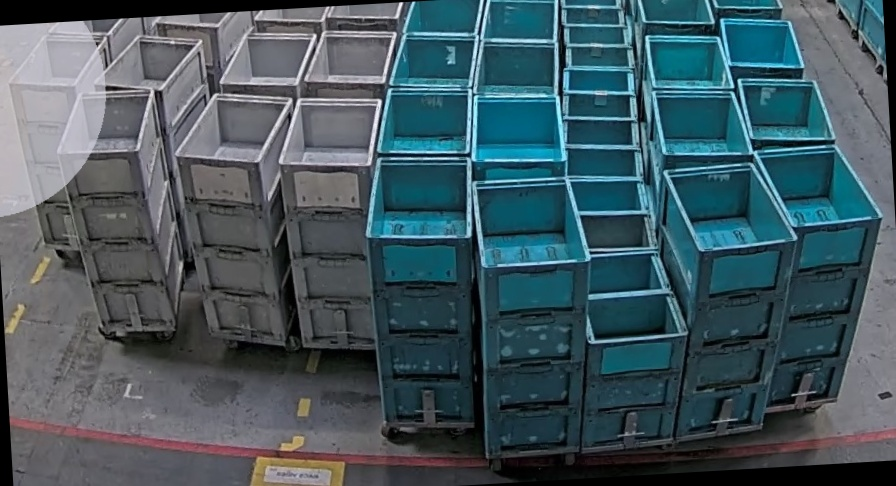4G: (170, 88, 308, 350), (53, 86, 190, 333), (275, 93, 396, 350), (5, 30, 122, 249)
B4: (652, 156, 810, 439), (750, 141, 896, 411), (469, 173, 604, 459), (359, 150, 489, 428)
B8: (565, 247, 696, 451)
